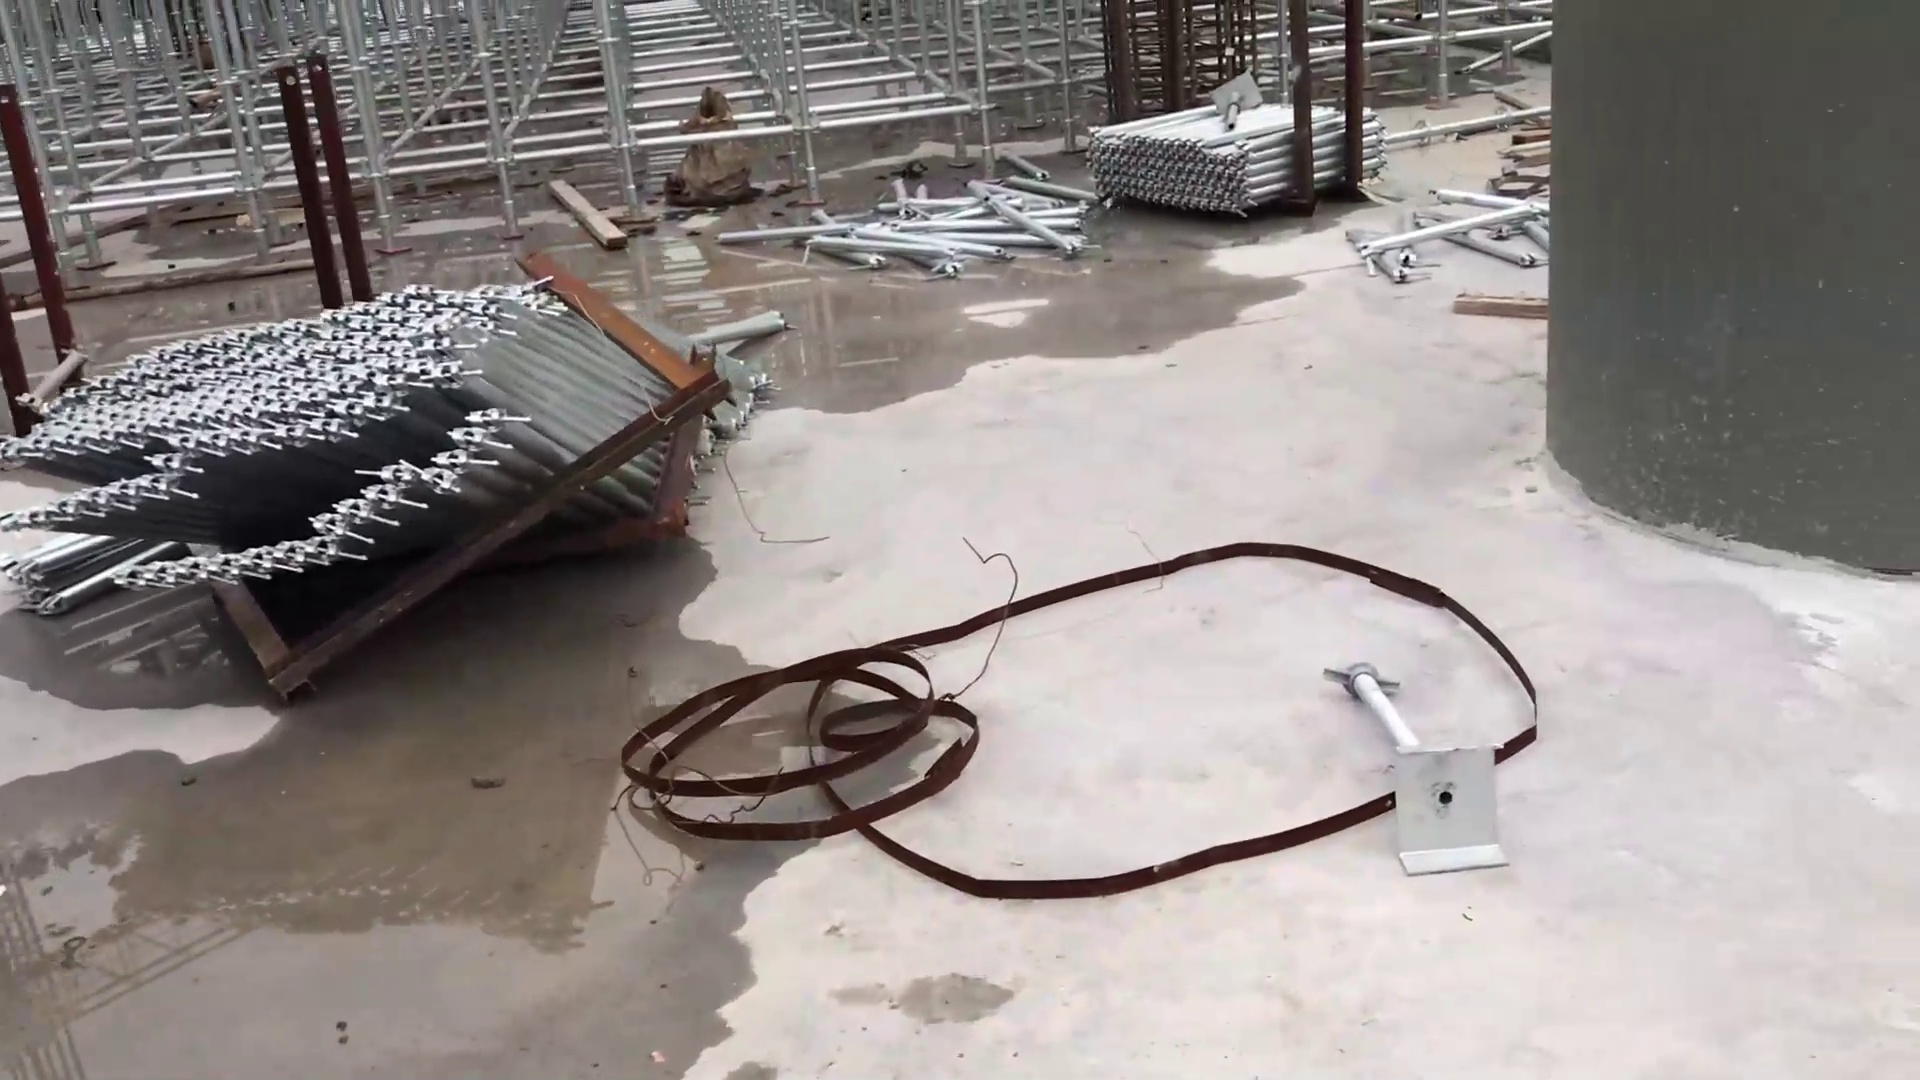scaffold: (4, 270, 717, 637), (1102, 105, 1391, 218)
